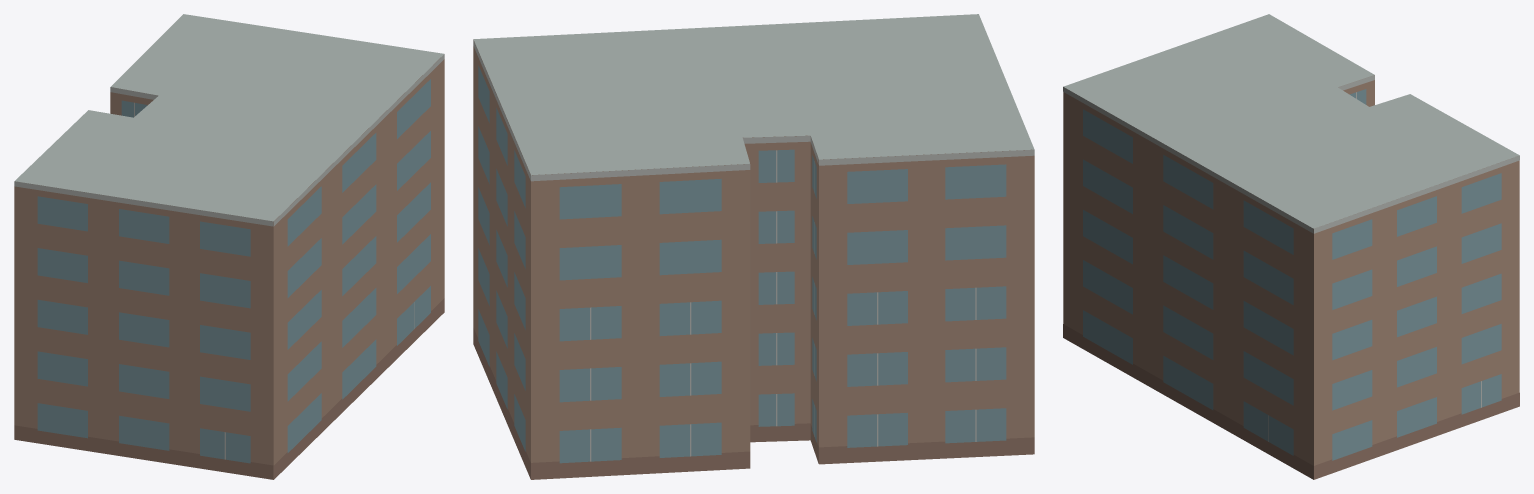
Rendered from survey-upis-32778291.glb.
The picture shows the model from 3 angles, left to right: view 1: azimuth 30°, elevation 25°; view 2: azimuth 150°, elevation 25°; view 3: azimuth 270°, elevation 25°; orthographic projection. The views are drawn at different scales.
Visible parts, largest first — view 1: survey-upis-32778291.tmp; view 2: survey-upis-32778291.tmp; view 3: survey-upis-32778291.tmp.
Part boxes in pixels (<box>): survey-upis-32778291.tmp: <box>14,14,444,479</box>; survey-upis-32778291.tmp: <box>473,14,1034,479</box>; survey-upis-32778291.tmp: <box>1063,14,1519,479</box>.
Size of the model in its own units: 22.26 by 12.13 by 20.
